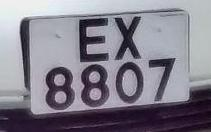0: (113, 57, 147, 109)
7: (146, 54, 181, 107)
8: (39, 63, 82, 112), (77, 57, 113, 112)
E: (72, 12, 115, 64)
X: (109, 12, 145, 63)
